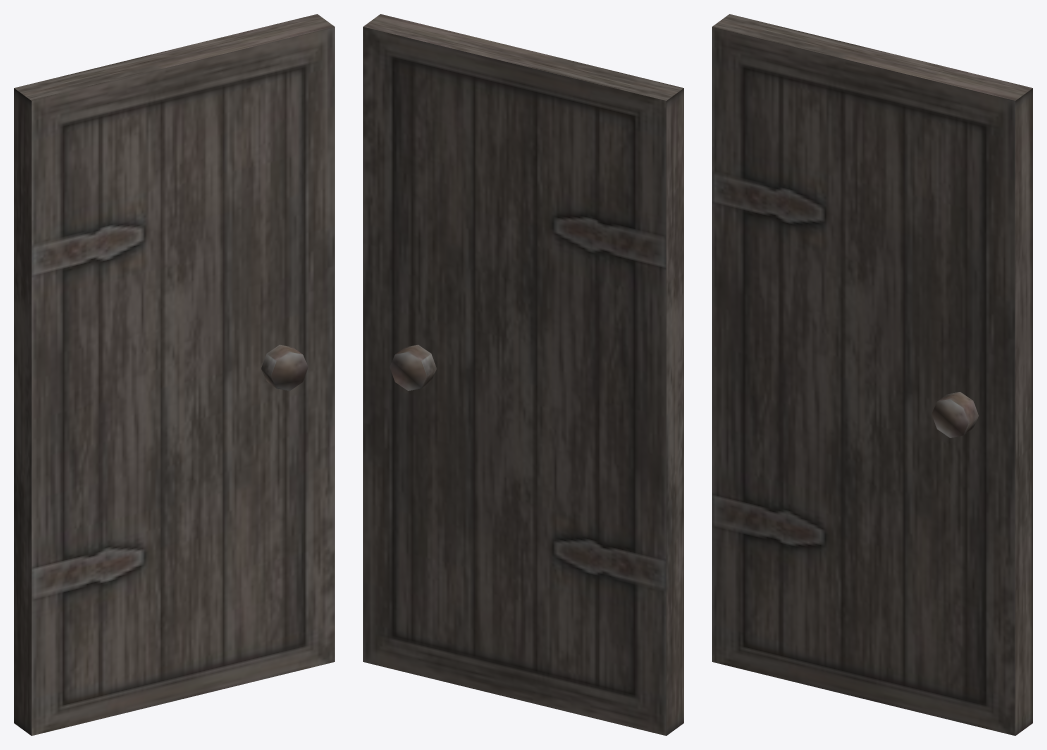
Rendered from door.glb.
The picture shows the model from 3 angles, left to right: view 1: azimuth 30°, elevation 25°; view 2: azimuth 150°, elevation 25°; view 3: azimuth 330°, elevation 25°; orthographic projection.
Visible parts, largest first — view 1: door; view 2: door; view 3: door.
Boxes of the visible parts, left/top/right/bottom form: door: left=14, top=14, right=334, bottom=735; door: left=363, top=14, right=683, bottom=735; door: left=712, top=14, right=1032, bottom=735.
Bounding box in the file's own units: 1 × 2 × 0.2145.
Materials: 1 (1 with a texture image).
